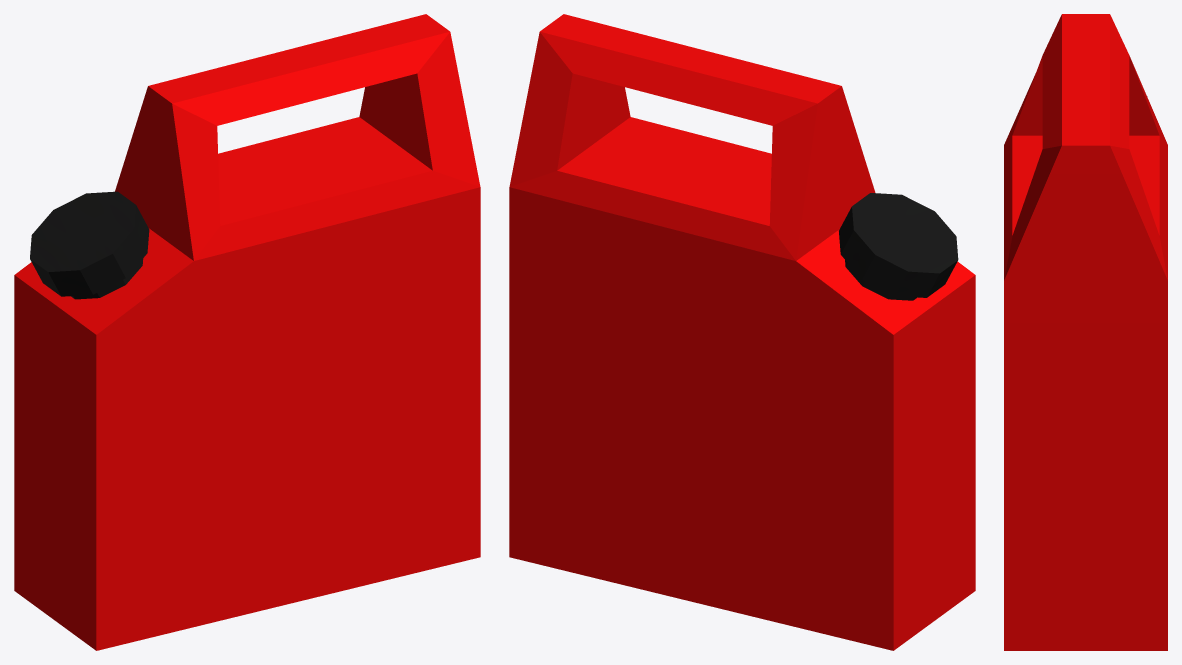
The model's file is benzin.fbx.
3 views of the same model, side by side, from view 1: azimuth 30°, elevation 25°; view 2: azimuth 150°, elevation 25°; view 3: azimuth 270°, elevation 25° (orthographic).
Parts seen in each view (by area): view 1: Plane.013; view 2: Plane.013; view 3: Plane.013.
Part boxes in pixels (x1,y1,x2,y2): Plane.013: (14,14,480,650); Plane.013: (509,14,975,650); Plane.013: (1004,14,1167,650).
Bounding box in the file's own units: 15.64 × 18.88 × 5.56.
1 material, 1 textured.
